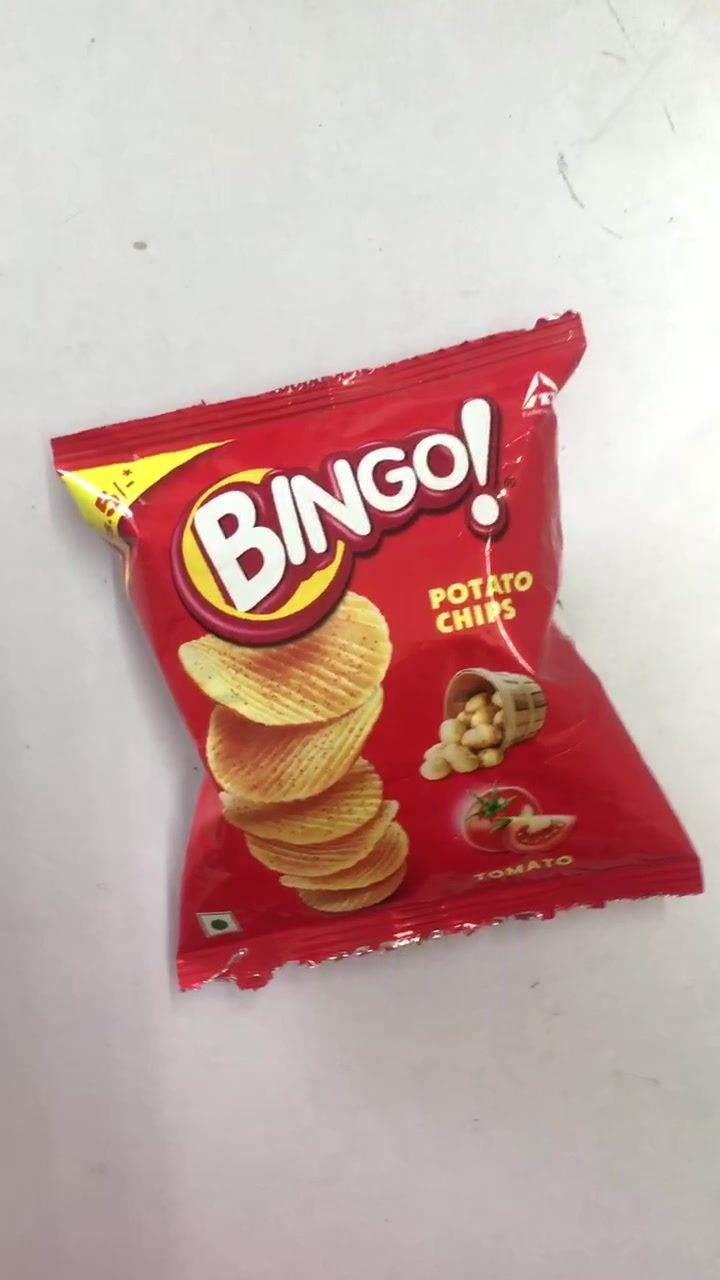Bingo: (58, 332, 705, 967)
